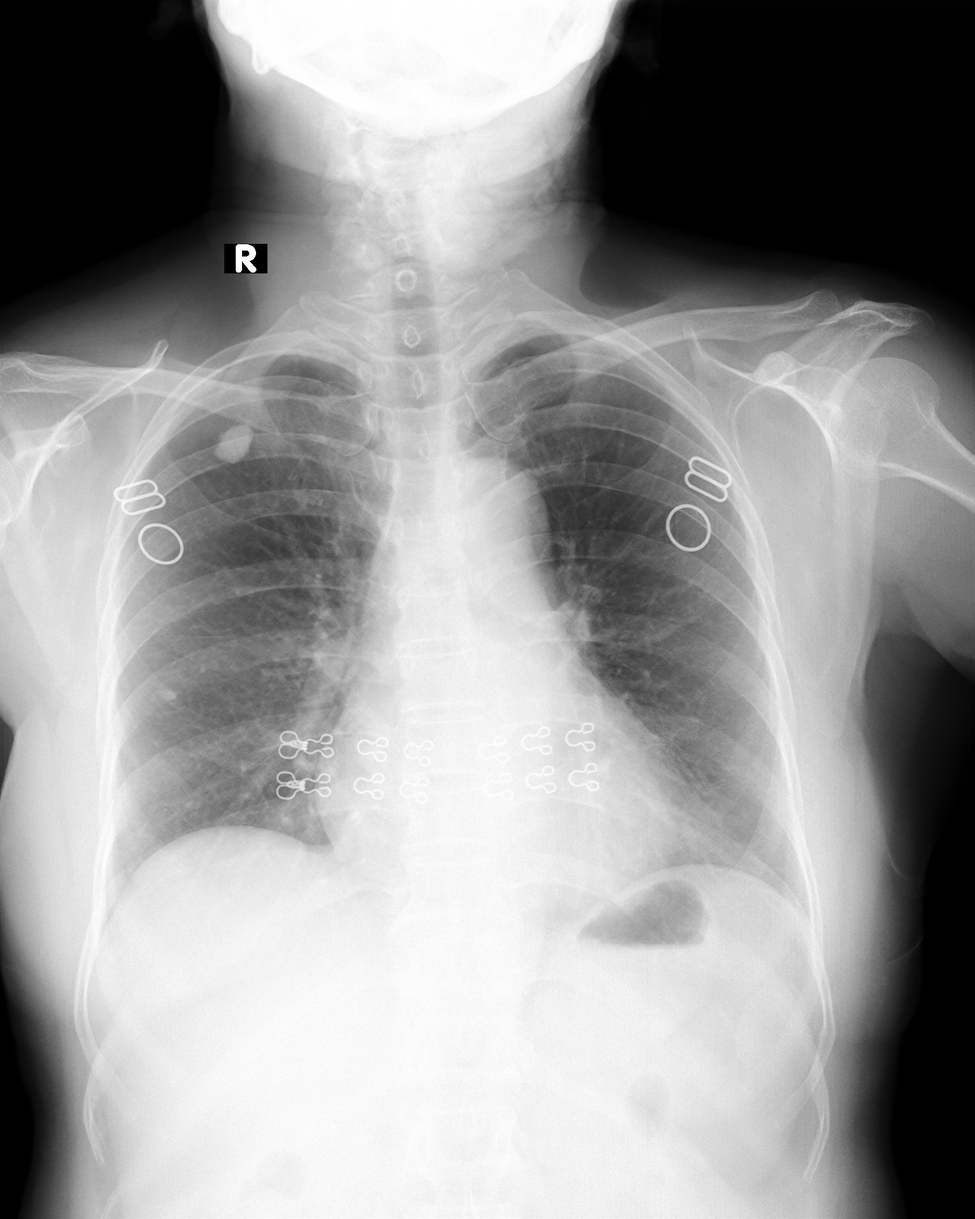Aortic enlargement: (430, 457, 553, 567)
Cardiomegaly: (311, 747, 683, 902)
Pleural thickening: (232, 348, 356, 379)
